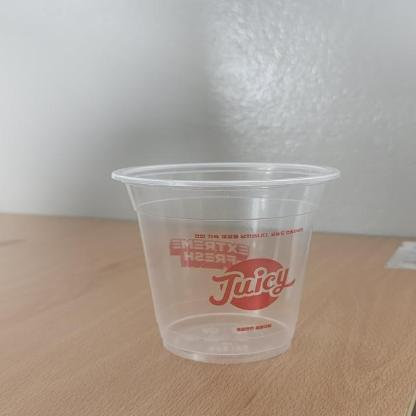Plastic Cup: (111, 162, 345, 364)
